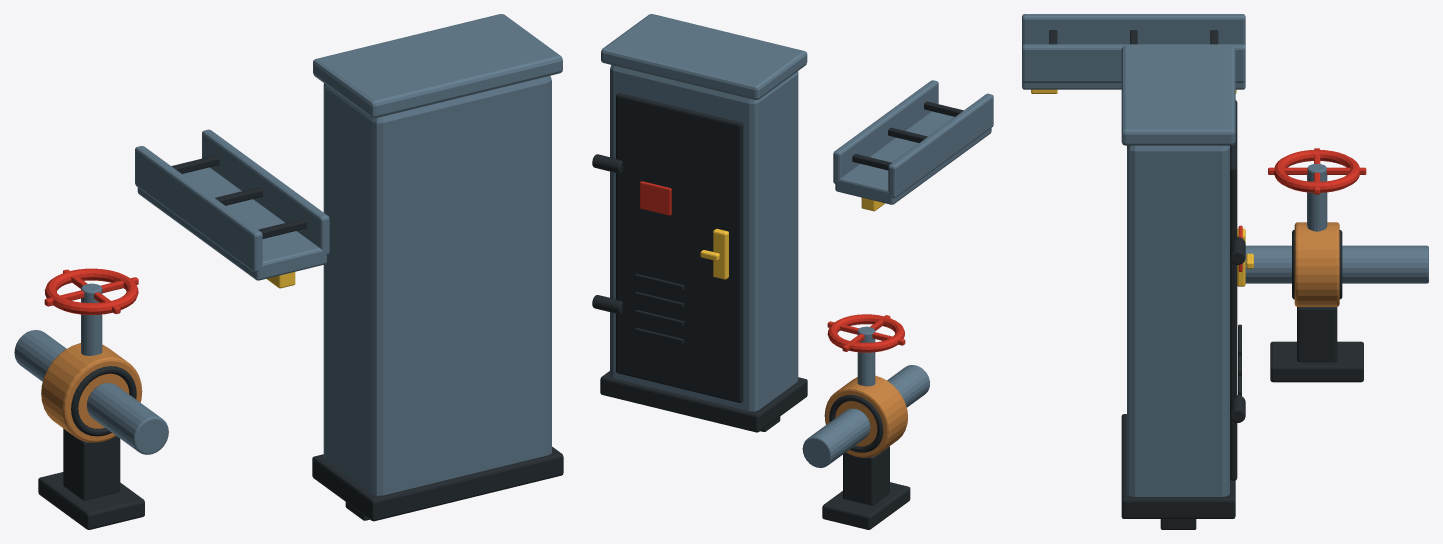
Rendered from utility-room-layout-b.glb.
3 views of the same model, side by side, from view 1: azimuth 30°, elevation 25°; view 2: azimuth 150°, elevation 25°; view 3: azimuth 270°, elevation 25° (orthographic). The views are drawn at different scales.
Parts seen in each view (by area): view 1: EXPORT_layout_b_cabinet_body.001, EXPORT_layout_b_cabinet_top_cap.001, EXPORT_layout_b_cabinet_base_plinth.001, EXPORT_layout_b_tray_side_+0.001, EXPORT_layout_b_tray_base_1m.001, EXPORT_layout_b_valve_body.001, EXPORT_layout_b_tray_side_-0.001, EXPORT_layout_b_pipe_segment_-0.001, EXPORT_layout_b_valve_support_pedestal.001, EXPORT_layout_b_valve_floor_bracket.001, EXPORT_layout_b_valve_handwheel.001, EXPORT_layout_b_pipe_segment_+0.001 (+2 smaller); view 2: EXPORT_layout_b_cabinet_door.001, EXPORT_layout_b_cabinet_body.001, EXPORT_layout_b_cabinet_top_cap.001, EXPORT_layout_b_cabinet_base_plinth.001, EXPORT_layout_b_tray_side_+0.001, EXPORT_layout_b_tray_base_1m.001, EXPORT_layout_b_valve_body.001, EXPORT_layout_b_tray_side_-0.001, EXPORT_layout_b_pipe_segment_+0.001, EXPORT_layout_b_valve_support_pedestal.001, EXPORT_layout_b_valve_floor_bracket.001, EXPORT_layout_b_valve_handwheel.001 (+5 smaller); view 3: EXPORT_layout_b_cabinet_body.001, EXPORT_layout_b_cabinet_top_cap.001, EXPORT_layout_b_tray_side_+0.001, EXPORT_layout_b_tray_side_-0.001, EXPORT_layout_b_valve_body.001, EXPORT_layout_b_pipe_segment_+0.001, EXPORT_layout_b_cabinet_base_plinth.001, EXPORT_layout_b_valve_floor_bracket.001, EXPORT_layout_b_cabinet_door.001, EXPORT_layout_b_valve_support_pedestal.001, EXPORT_layout_b_valve_handwheel.001, EXPORT_layout_b_pipe_segment_-0.001 (+2 smaller).
Boxes of the visible parts, x1,y1,x2,y2 form: EXPORT_layout_b_cabinet_body.001: (323,76,551,495); EXPORT_layout_b_cabinet_top_cap.001: (313,14,562,118); EXPORT_layout_b_cabinet_base_plinth.001: (312,446,563,521); EXPORT_layout_b_tray_side_+0.001: (135,146,262,272); EXPORT_layout_b_tray_base_1m.001: (137,167,326,280); EXPORT_layout_b_valve_body.001: (41,343,142,442); EXPORT_layout_b_tray_side_-0.001: (202,129,329,254); EXPORT_layout_b_pipe_segment_-0.001: (86,383,168,454); EXPORT_layout_b_valve_support_pedestal.001: (63,428,120,500); EXPORT_layout_b_valve_floor_bracket.001: (38,472,144,529); EXPORT_layout_b_valve_handwheel.001: (44,268,138,314); EXPORT_layout_b_pipe_segment_+0.001: (14,330,66,381); EXPORT_layout_b_cabinet_door.001: (616,93,743,402); EXPORT_layout_b_cabinet_body.001: (610,65,798,411); EXPORT_layout_b_cabinet_top_cap.001: (601,14,807,99); EXPORT_layout_b_cabinet_base_plinth.001: (600,371,807,432); EXPORT_layout_b_tray_side_+0.001: (888,93,993,197); EXPORT_layout_b_tray_base_1m.001: (835,111,991,204); EXPORT_layout_b_valve_body.001: (824,375,907,457); EXPORT_layout_b_tray_side_-0.001: (833,80,938,183); EXPORT_layout_b_pipe_segment_+0.001: (802,408,870,467); EXPORT_layout_b_valve_support_pedestal.001: (843,446,889,505); EXPORT_layout_b_valve_floor_bracket.001: (822,482,910,529); EXPORT_layout_b_valve_handwheel.001: (827,314,904,352); EXPORT_layout_b_cabinet_body.001: (1127,145,1229,496); EXPORT_layout_b_cabinet_top_cap.001: (1121,45,1235,145); EXPORT_layout_b_tray_side_+0.001: (1022,14,1245,45); EXPORT_layout_b_tray_side_-0.001: (1022,44,1245,82); EXPORT_layout_b_valve_body.001: (1294,222,1339,306); EXPORT_layout_b_pipe_segment_+0.001: (1342,245,1428,283); EXPORT_layout_b_cabinet_base_plinth.001: (1121,414,1235,518); EXPORT_layout_b_valve_floor_bracket.001: (1270,341,1363,382); EXPORT_layout_b_cabinet_door.001: (1230,100,1237,480); EXPORT_layout_b_valve_support_pedestal.001: (1297,307,1337,362); EXPORT_layout_b_valve_handwheel.001: (1274,149,1360,192); EXPORT_layout_b_pipe_segment_-0.001: (1245,245,1291,283).
Size of the model in its own units: 2 by 2 by 1.82.
